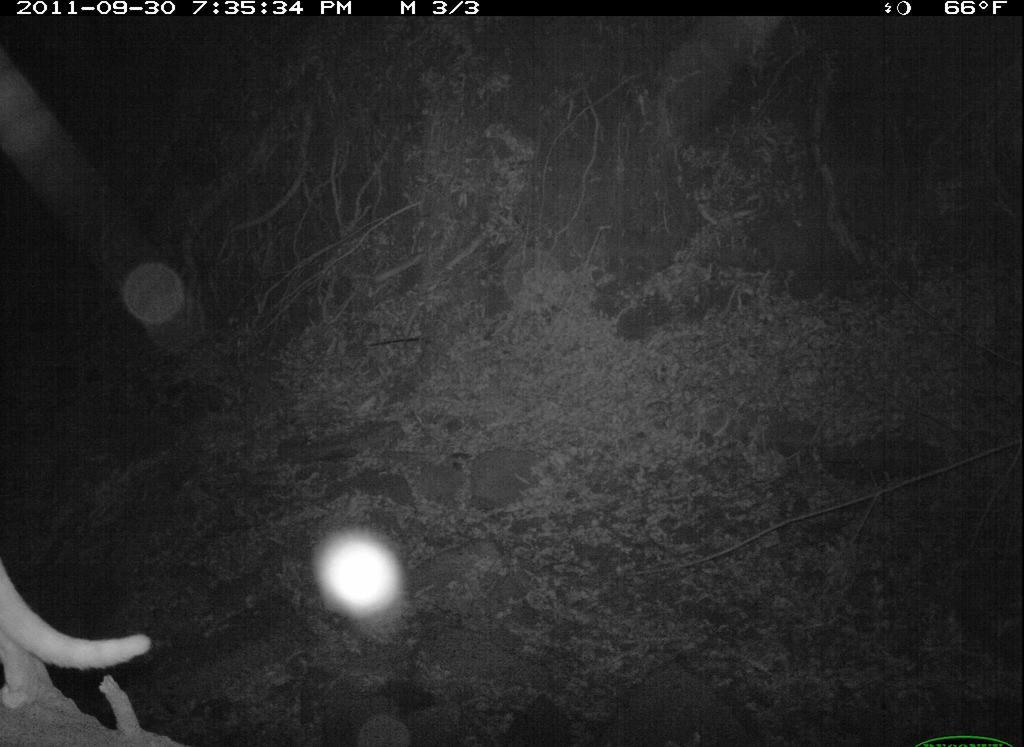cat: (3, 559, 177, 717)
